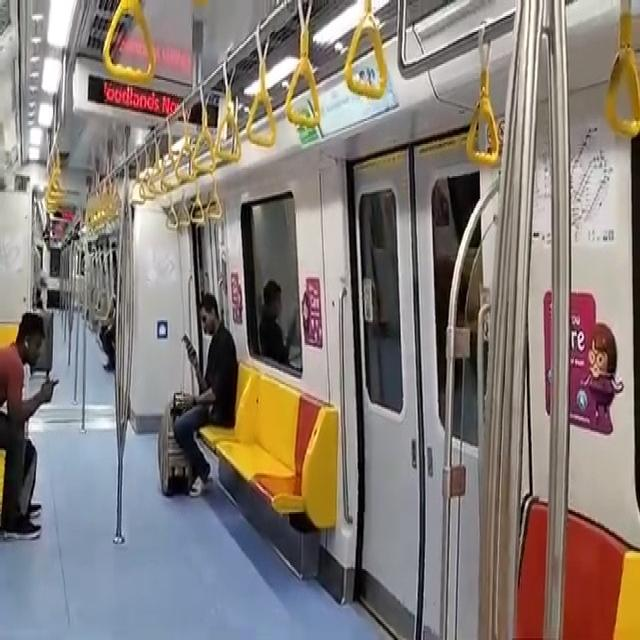bus-door: (351, 136, 480, 637), (450, 224, 482, 637)
